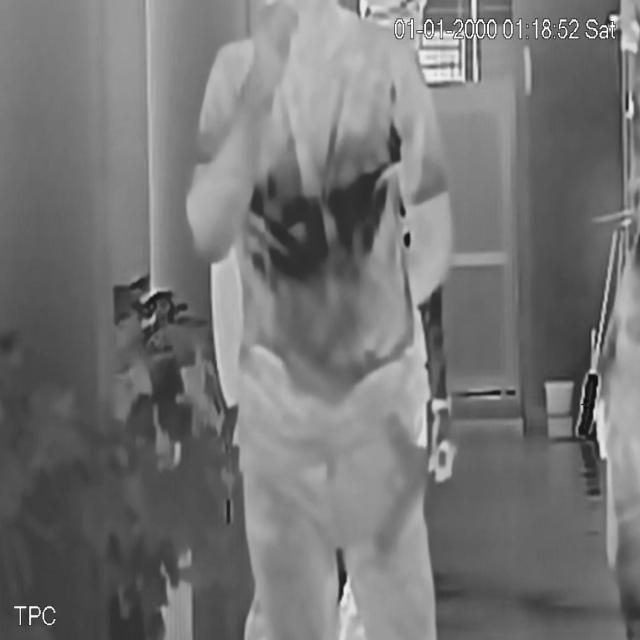Weapon: (370, 410, 434, 567)
